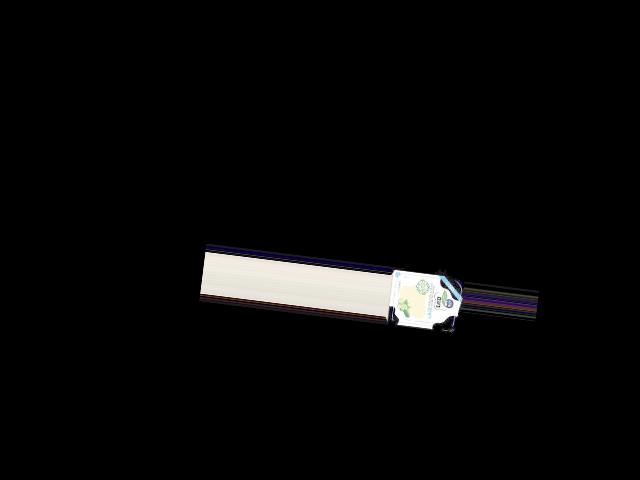cheese: (384, 266, 464, 335)
